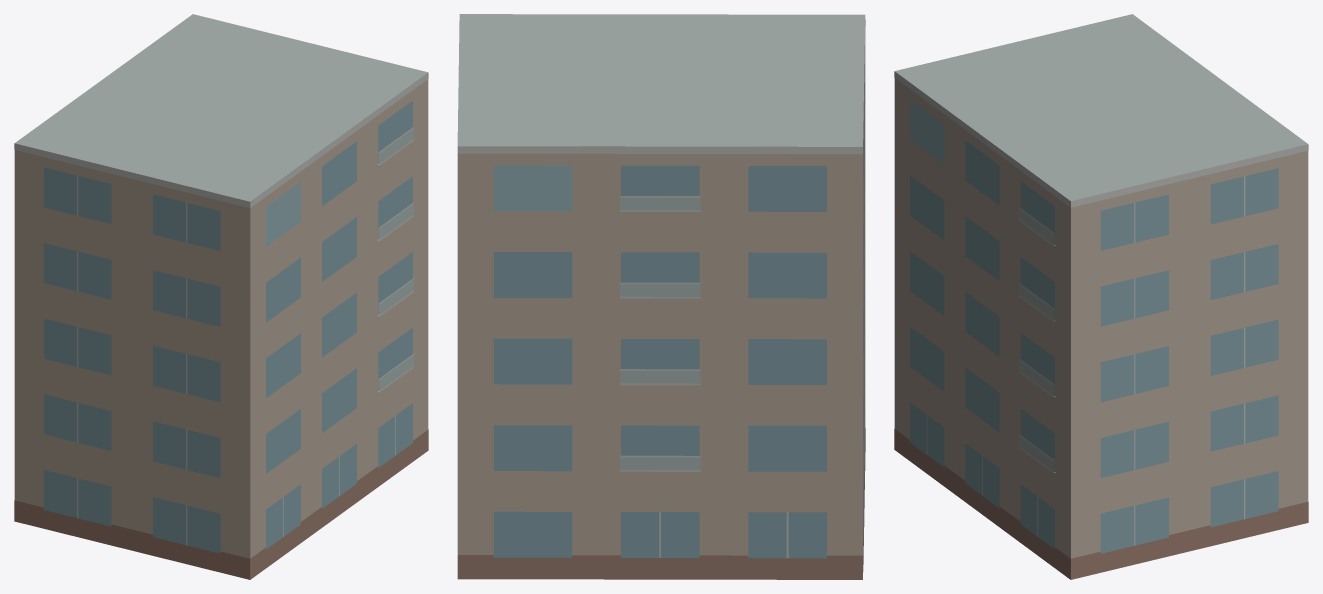
Rendered from survey-upis-33045341.glb.
The picture shows the model from 3 angles, left to right: view 1: azimuth 30°, elevation 25°; view 2: azimuth 150°, elevation 25°; view 3: azimuth 270°, elevation 25°; orthographic projection. The views are drawn at different scales.
Visible parts, largest first — view 1: survey-upis-33045341.tmp; view 2: survey-upis-33045341.tmp; view 3: survey-upis-33045341.tmp.
Part boxes in pixels (x1,y1,x2,y2): survey-upis-33045341.tmp: [14, 14, 428, 579]; survey-upis-33045341.tmp: [457, 14, 865, 579]; survey-upis-33045341.tmp: [894, 14, 1308, 579].
Bounding box in the file's own units: 15.17 × 14.3 × 14.18.
